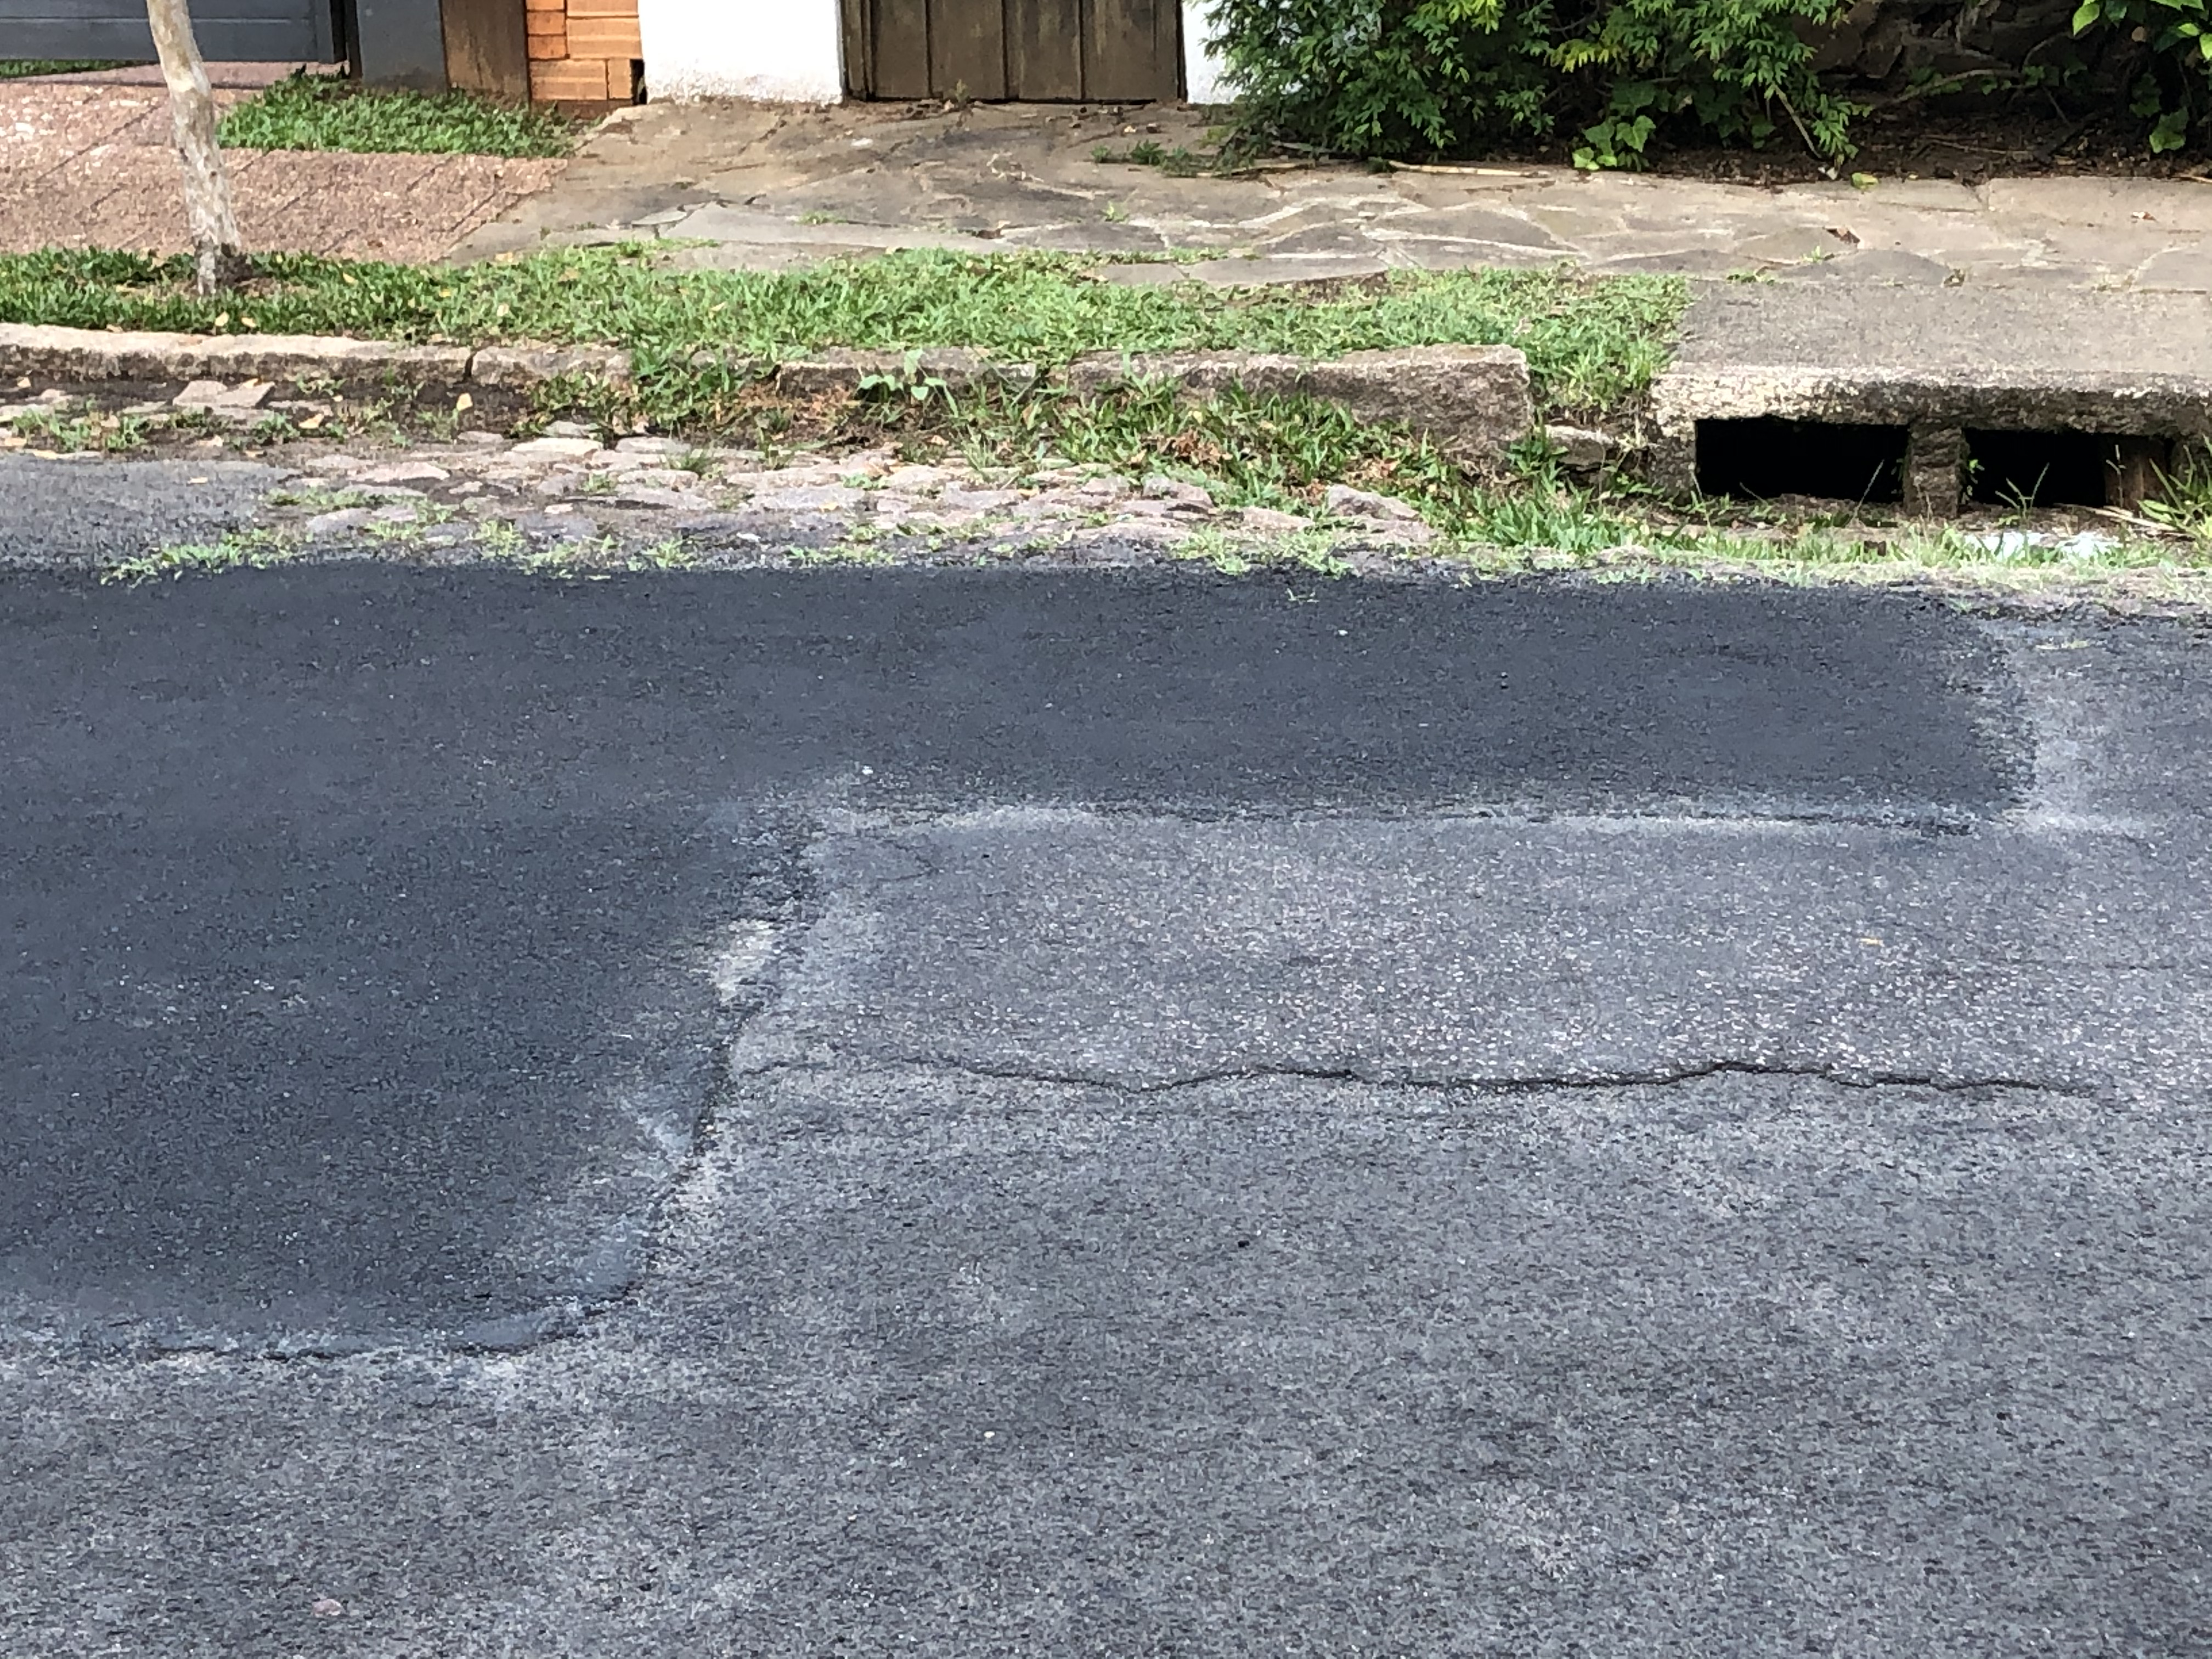vag59: (9, 75, 2144, 809)
